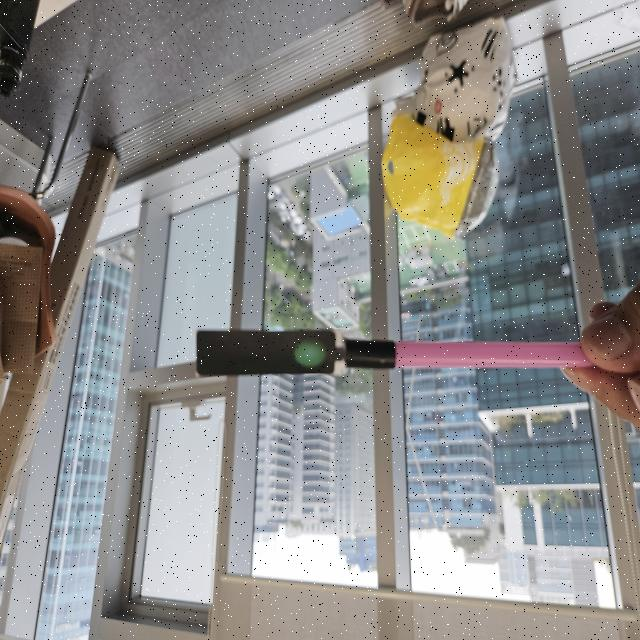traffic light: (195, 329, 347, 379)
